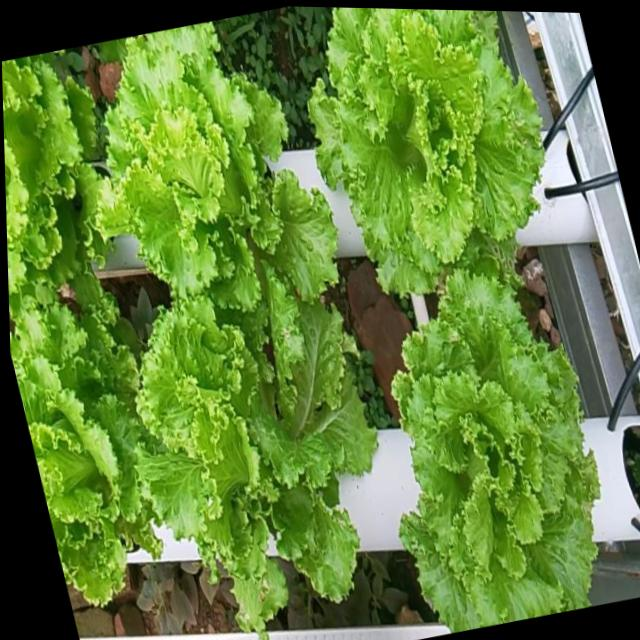Mature: (131, 310, 375, 640), (389, 266, 596, 633), (99, 25, 336, 342), (304, 7, 539, 302), (10, 315, 158, 617), (2, 55, 100, 327)
